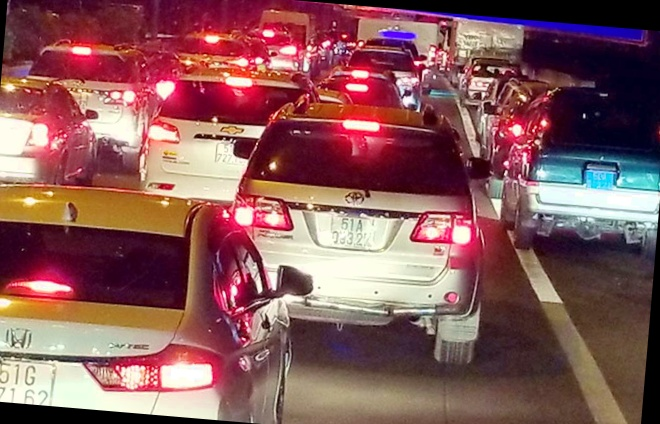Bien-so: (17, 358, 91, 403), (353, 208, 398, 241), (237, 144, 264, 166)
